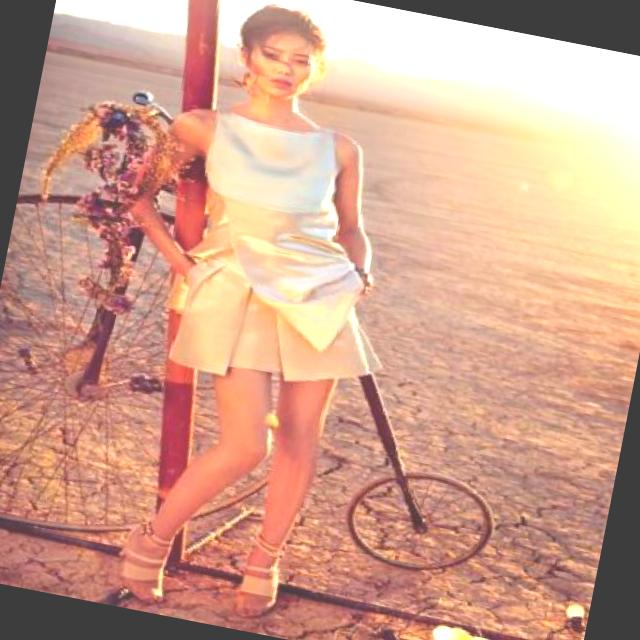Person: (62, 0, 431, 626)
